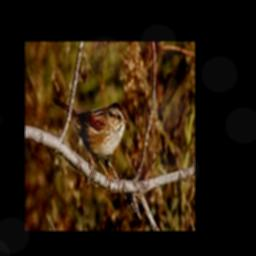Sparrow: (53, 98, 129, 189)
